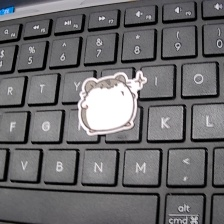mouse: (74, 67, 147, 137)
